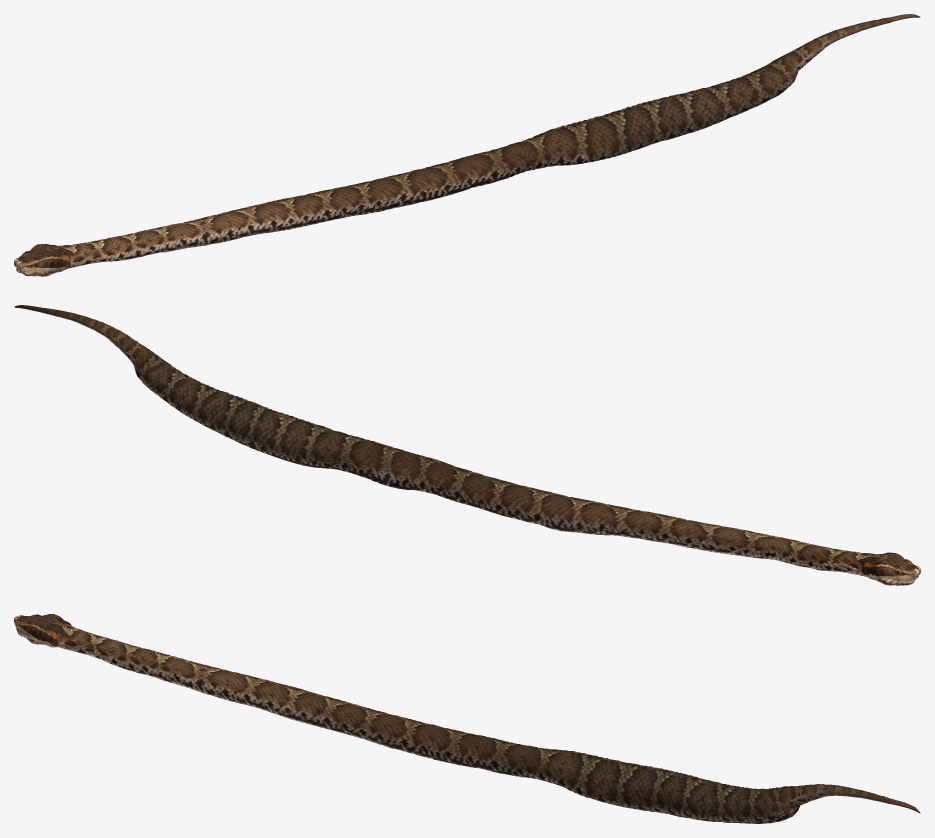
Rendered from mamushi.glb.
The picture shows the model from 3 angles, top to bottom: view 1: azimuth 30°, elevation 25°; view 2: azimuth 150°, elevation 25°; view 3: azimuth 330°, elevation 25°; orthographic projection. The views are drawn at different scales.
Visible parts, largest first — view 1: dst; view 2: dst; view 3: dst.
Part boxes in pixels (left/top/right/bottom): dst: left=14, top=14, right=920, bottom=276; dst: left=14, top=305, right=920, bottom=585; dst: left=14, top=614, right=920, bottom=823.
Bounding box in the file's own units: 20.17 × 1.76 × 1.01.
1 material, 1 textured.
